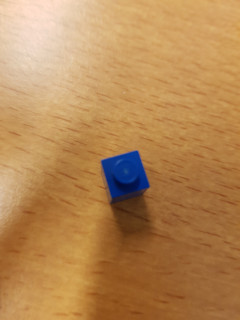1x1 blue: (100, 149, 154, 206)
